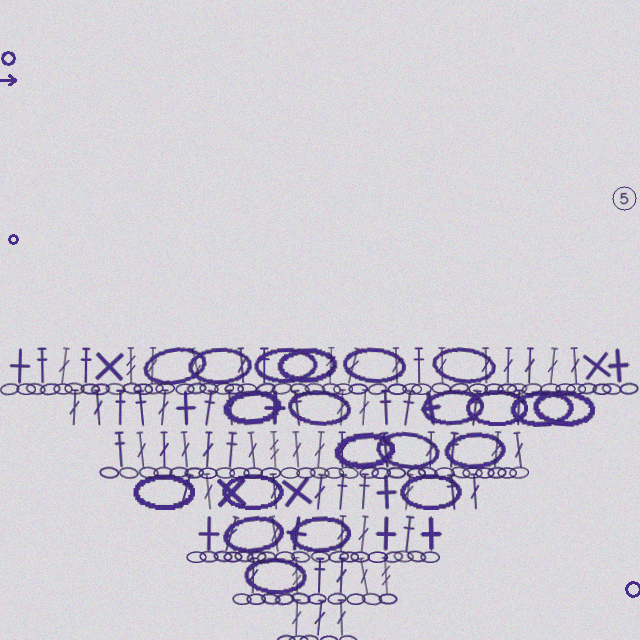chain: (140, 342, 210, 389), (374, 428, 442, 472), (220, 512, 286, 556), (430, 344, 497, 387), (286, 387, 353, 429), (341, 345, 408, 386), (332, 429, 396, 471), (420, 387, 485, 428), (531, 387, 596, 428), (509, 388, 574, 428), (221, 387, 284, 428), (253, 346, 319, 385), (288, 514, 352, 554), (187, 346, 252, 385), (443, 430, 506, 470), (243, 556, 307, 595), (276, 346, 339, 385), (221, 473, 285, 510), (399, 473, 463, 510), (132, 473, 195, 510), (465, 389, 528, 426), (271, 381, 293, 396), (290, 591, 311, 606), (406, 549, 427, 564), (338, 465, 359, 480), (417, 465, 438, 480), (450, 465, 471, 480), (255, 381, 276, 396), (449, 381, 470, 396), (361, 592, 383, 606), (39, 382, 61, 396), (304, 382, 326, 396), (506, 382, 528, 396), (521, 382, 543, 396), (260, 592, 281, 606), (274, 592, 295, 606), (246, 550, 267, 564), (256, 550, 277, 564), (290, 550, 311, 564), (310, 550, 331, 564), (383, 550, 404, 564), (118, 466, 139, 480), (309, 466, 330, 480), (25, 382, 46, 396), (90, 382, 111, 396), (105, 382, 126, 396), (289, 382, 310, 396), (321, 382, 342, 396), (367, 382, 388, 396), (601, 382, 622, 396), (0, 382, 20, 396), (328, 550, 349, 563), (393, 550, 414, 563), (138, 466, 159, 479), (64, 382, 85, 395), (186, 382, 207, 395), (577, 382, 598, 395), (327, 592, 347, 605), (199, 550, 219, 563), (213, 550, 233, 563), (234, 550, 254, 563), (99, 466, 119, 479), (153, 466, 173, 479), (169, 466, 189, 479), (359, 466, 379, 479), (386, 466, 406, 479), (487, 466, 507, 479), (509, 466, 529, 479), (122, 382, 142, 395), (144, 382, 164, 395), (155, 382, 175, 395), (199, 382, 219, 395), (214, 382, 234, 395), (431, 382, 451, 395), (619, 382, 639, 395), (186, 551, 207, 563), (367, 551, 388, 563), (229, 467, 250, 479), (260, 467, 281, 479), (434, 467, 455, 479), (462, 467, 483, 479), (411, 383, 432, 395), (540, 383, 561, 395), (555, 383, 576, 395), (232, 593, 252, 605), (246, 593, 266, 605), (307, 593, 327, 605), (346, 593, 366, 605), (378, 593, 398, 605), (223, 551, 243, 563), (275, 551, 295, 563), (339, 551, 359, 563), (350, 551, 370, 563), (420, 551, 440, 563), (184, 467, 204, 479), (198, 467, 218, 479), (215, 467, 235, 479), (243, 467, 263, 479), (280, 467, 300, 479), (296, 467, 316, 479), (324, 467, 344, 479), (371, 467, 391, 479), (406, 467, 426, 479), (475, 467, 495, 479), (497, 467, 517, 479), (16, 383, 36, 395), (53, 383, 73, 395), (80, 383, 100, 395), (133, 383, 153, 395), (175, 383, 195, 395), (224, 383, 244, 395), (237, 383, 257, 395), (333, 383, 353, 395), (348, 383, 368, 395), (387, 383, 407, 395), (402, 383, 422, 395), (468, 383, 488, 395), (484, 383, 504, 395), (497, 383, 517, 395), (566, 383, 586, 395), (592, 383, 612, 395), (338, 634, 359, 640), (276, 634, 296, 640), (299, 634, 319, 640), (288, 635, 309, 640), (319, 635, 339, 640)
double: (220, 515, 242, 553), (343, 347, 363, 385), (355, 557, 373, 595), (266, 515, 284, 553), (400, 473, 416, 511), (511, 431, 527, 469), (56, 347, 72, 385), (312, 599, 327, 637), (356, 515, 371, 553), (312, 473, 327, 511), (134, 431, 149, 469), (245, 431, 260, 469), (545, 347, 560, 385), (201, 473, 216, 510), (267, 473, 282, 510), (178, 431, 193, 468), (312, 431, 327, 468), (489, 431, 504, 468), (156, 389, 171, 426), (223, 389, 238, 426), (335, 515, 349, 552), (468, 473, 482, 510), (201, 431, 215, 468), (290, 431, 304, 468), (91, 389, 105, 426), (357, 389, 371, 426), (235, 347, 249, 384), (568, 347, 582, 384), (290, 599, 303, 636), (335, 599, 348, 636), (335, 557, 348, 594), (424, 431, 437, 468), (68, 389, 81, 426), (335, 389, 348, 426), (146, 347, 159, 384), (390, 347, 403, 384), (523, 347, 536, 384), (247, 557, 259, 594), (158, 431, 170, 468), (336, 431, 348, 468), (436, 347, 448, 384), (480, 347, 492, 384), (502, 347, 514, 384)
half_double: (174, 472, 197, 511), (199, 389, 218, 427), (398, 389, 417, 427), (399, 515, 417, 553), (288, 389, 306, 427), (466, 389, 484, 427), (333, 473, 350, 511), (444, 473, 461, 511), (377, 431, 394, 469), (444, 431, 461, 469), (133, 389, 150, 427), (223, 431, 239, 469), (356, 473, 372, 510), (112, 431, 128, 468), (312, 557, 327, 594), (378, 389, 393, 426), (511, 389, 526, 426), (113, 389, 127, 426), (35, 347, 49, 384), (79, 347, 93, 384), (257, 347, 271, 384), (412, 347, 426, 384)
noise: (610, 184, 638, 212), (0, 48, 18, 68), (623, 579, 640, 600), (0, 74, 19, 86), (6, 232, 20, 246)
single: (410, 387, 452, 429), (276, 513, 317, 554), (276, 471, 317, 512), (576, 345, 617, 386), (599, 346, 638, 385), (212, 473, 250, 511), (367, 473, 405, 511), (167, 389, 205, 427), (1, 347, 39, 385), (90, 347, 128, 385), (190, 515, 227, 552), (367, 515, 404, 552), (412, 515, 449, 552), (256, 389, 293, 426)
treble: (187, 347, 206, 385), (379, 557, 393, 594), (290, 557, 303, 594), (268, 431, 281, 468), (324, 347, 337, 384), (125, 347, 137, 384)
